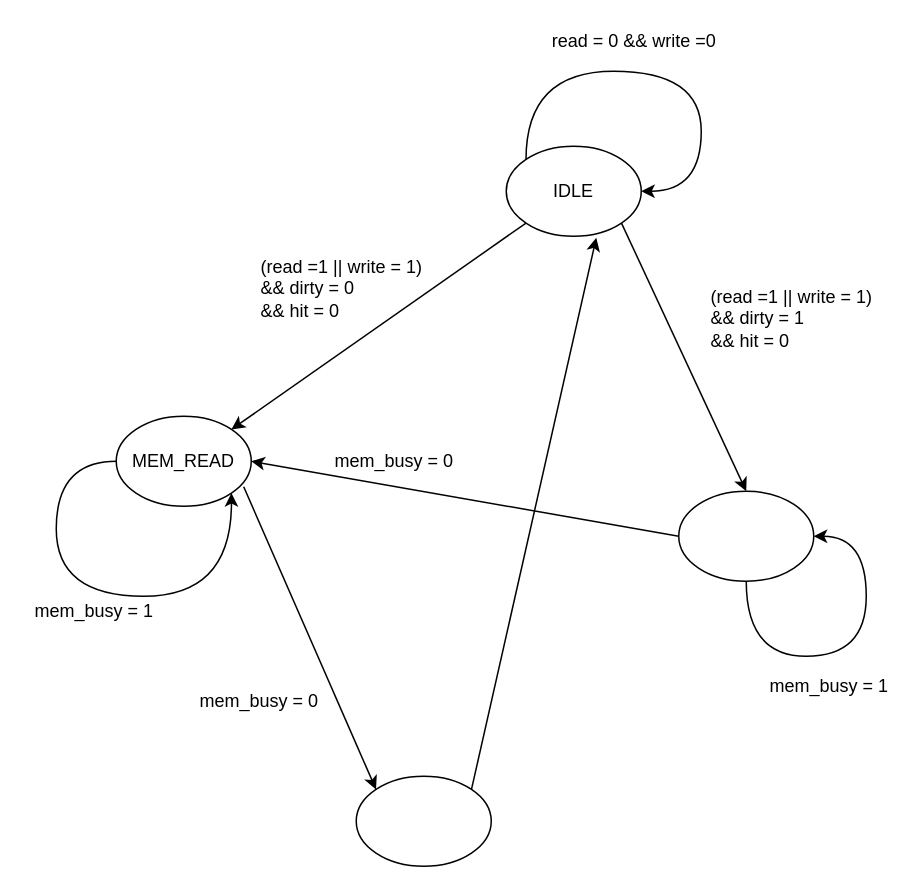
Some shapes in this 921 by 893 pixel diagram are drawn without their labels. The shapes that lost their labels are listed below. From the top down, each one's box as (x1, y1, x2, y2) in pixels, then its label:
(677, 490, 814, 581): MEM_WRITE
(355, 775, 491, 866): FETCH
